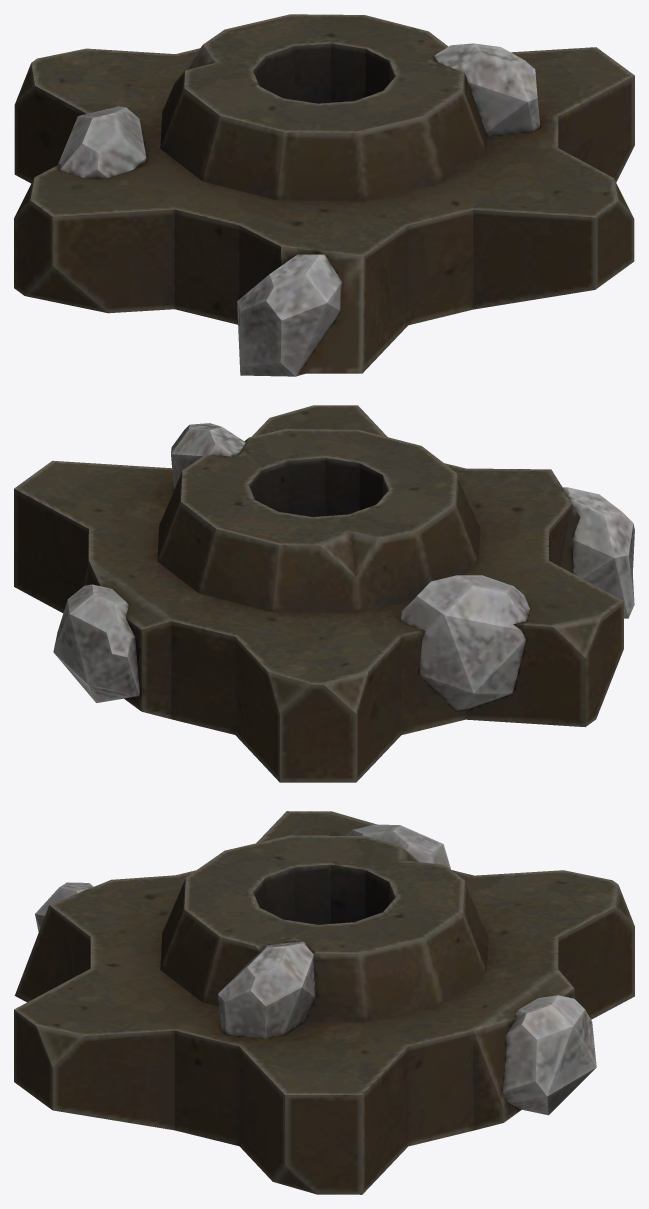
The model's file is SlagGear.glb.
3 renders of one model, top to bottom at view 1: azimuth 30°, elevation 25°; view 2: azimuth 150°, elevation 25°; view 3: azimuth 270°, elevation 25°, orthographic.
Parts seen in each view (by area): view 1: SlagGear; view 2: SlagGear; view 3: SlagGear.
Part boxes in pixels (x1,y1,x2,y2): SlagGear: [14, 14, 634, 376]; SlagGear: [14, 405, 634, 782]; SlagGear: [14, 811, 634, 1194].
Size of the model in its own units: 0.4552 by 0.1612 by 0.4208.
1 material, 1 textured.
